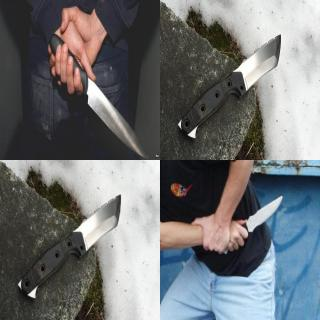knife: (47, 28, 151, 160), (226, 29, 283, 101), (66, 189, 123, 261), (230, 192, 283, 252)
